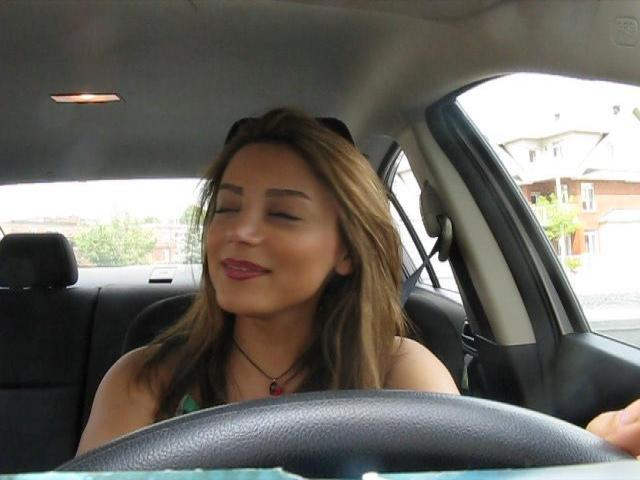eye_closed: (265, 202, 307, 230), (213, 194, 244, 226)
face: (203, 169, 332, 318)
mouth_open: (216, 250, 277, 282)
